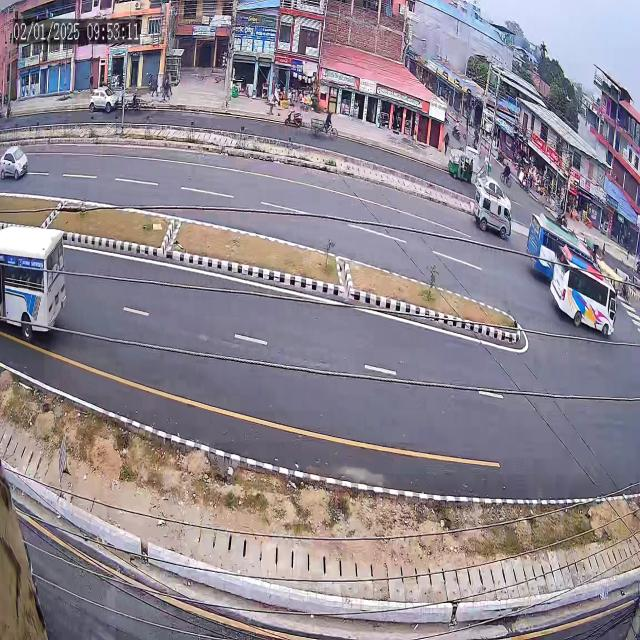bus: (0, 205, 85, 369), (552, 244, 631, 354), (523, 198, 593, 285)
car: (0, 139, 41, 194), (80, 79, 121, 121)
cycle: (315, 103, 347, 150)
van: (466, 180, 517, 246)
